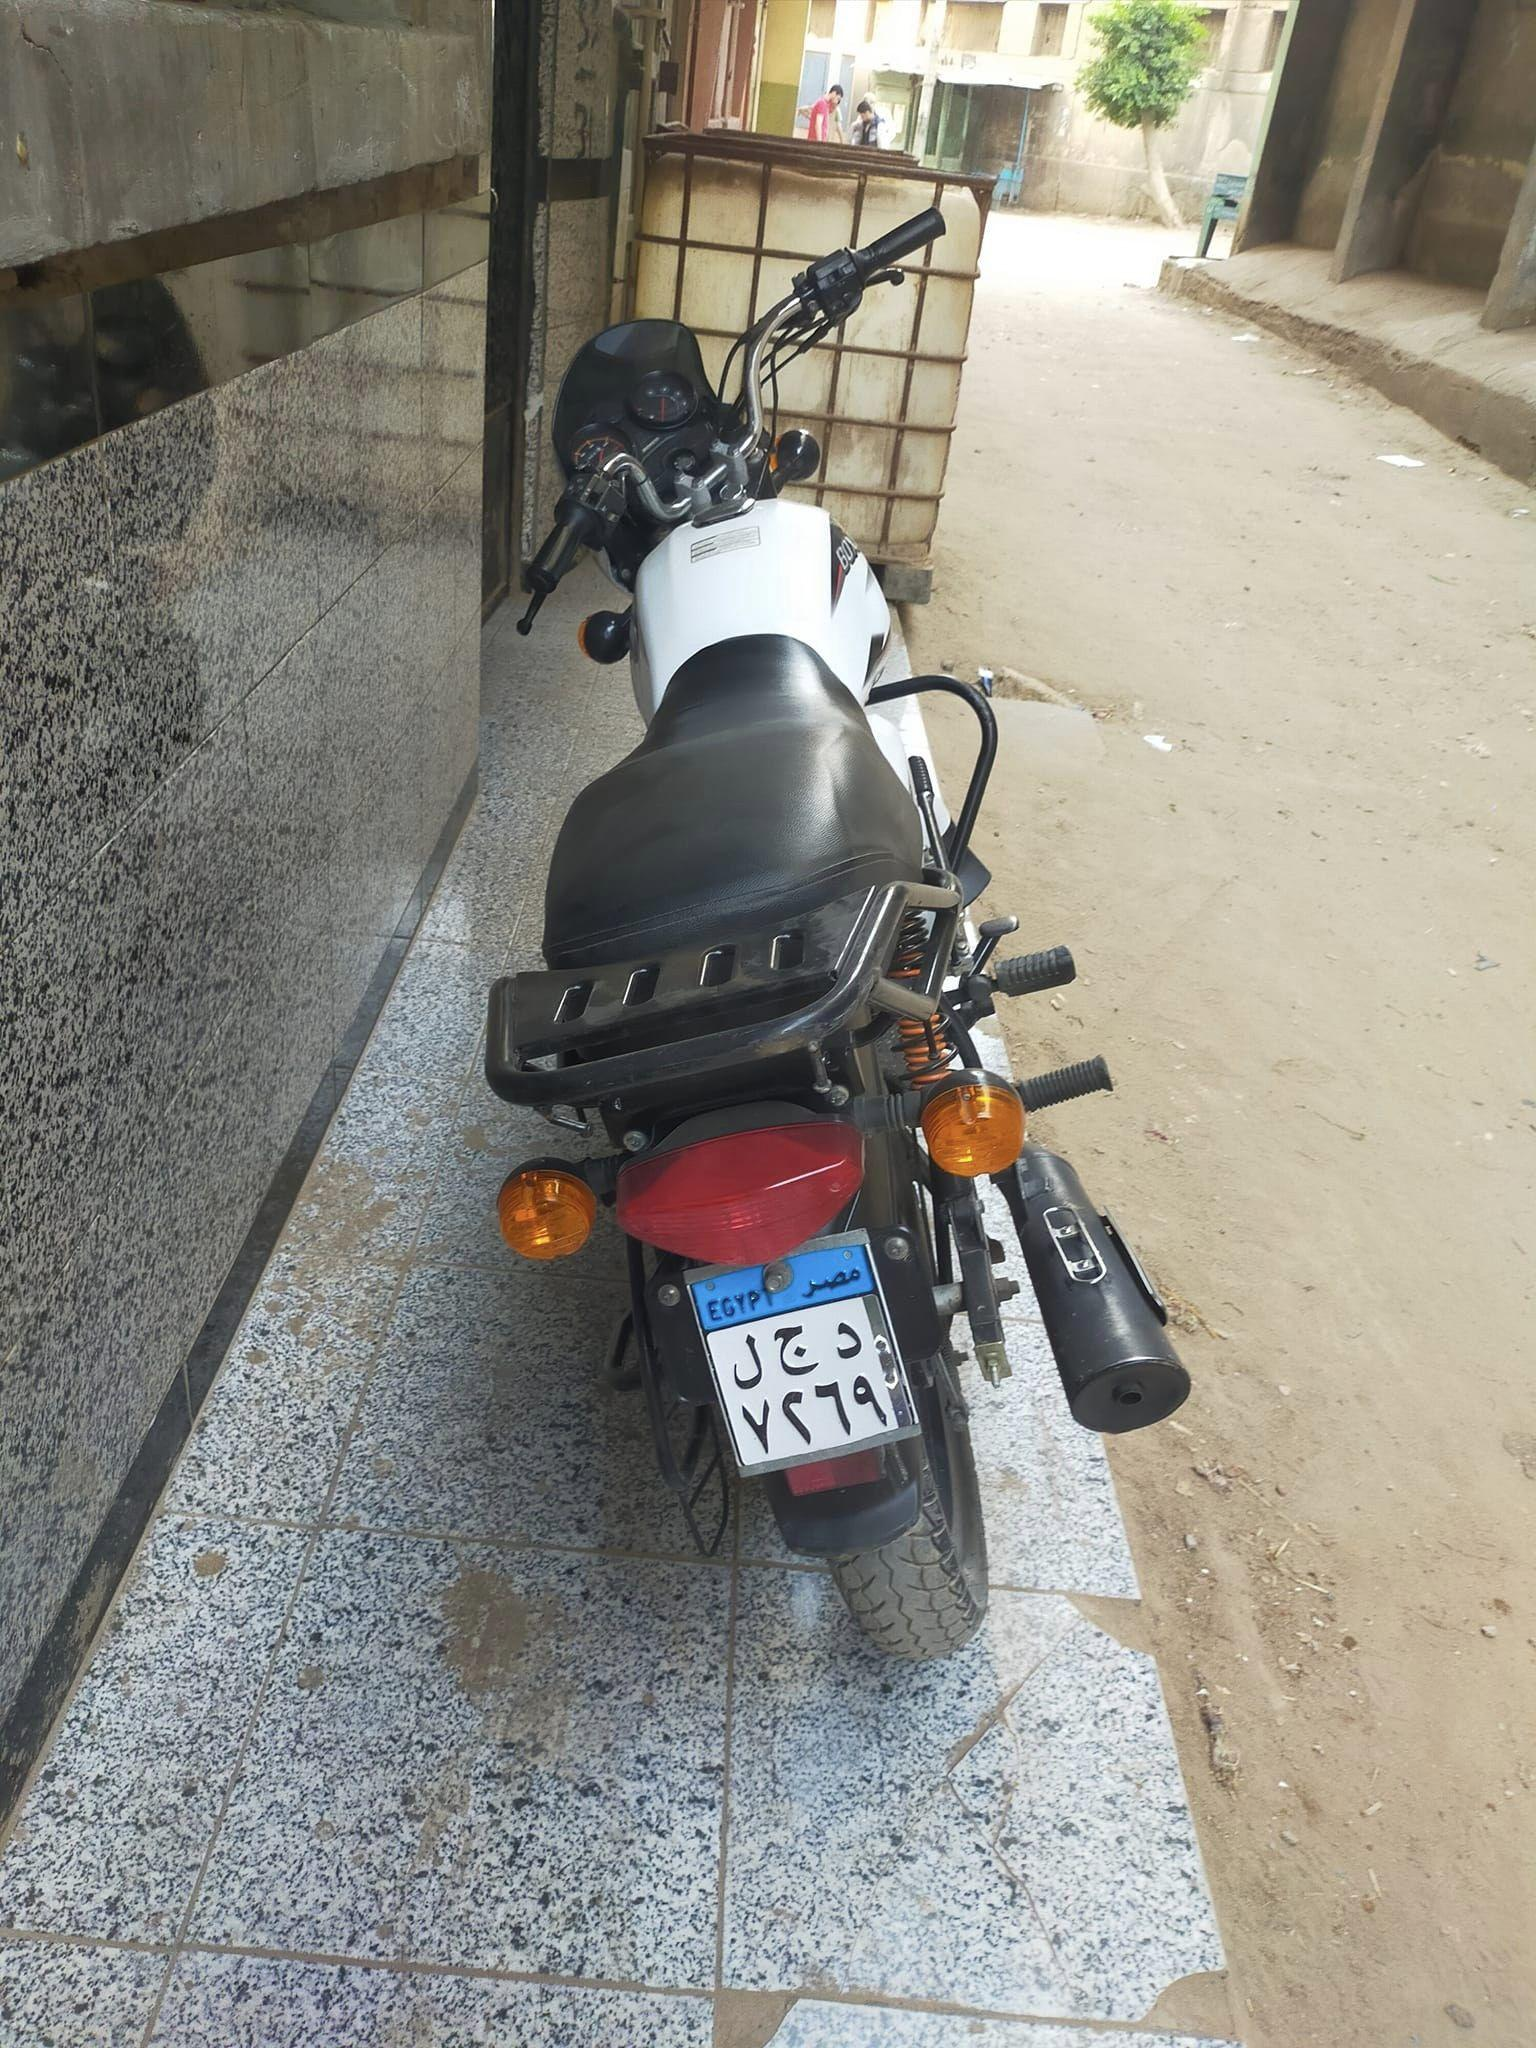License Plate: (679, 1239, 925, 1479)
